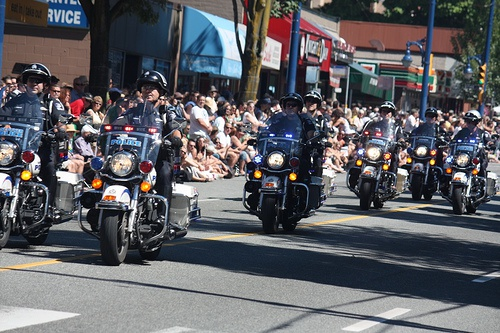non-vehicle: (76, 98, 185, 264), (240, 112, 329, 232), (0, 92, 59, 243), (445, 139, 498, 214), (404, 130, 453, 200), (357, 118, 396, 205)
